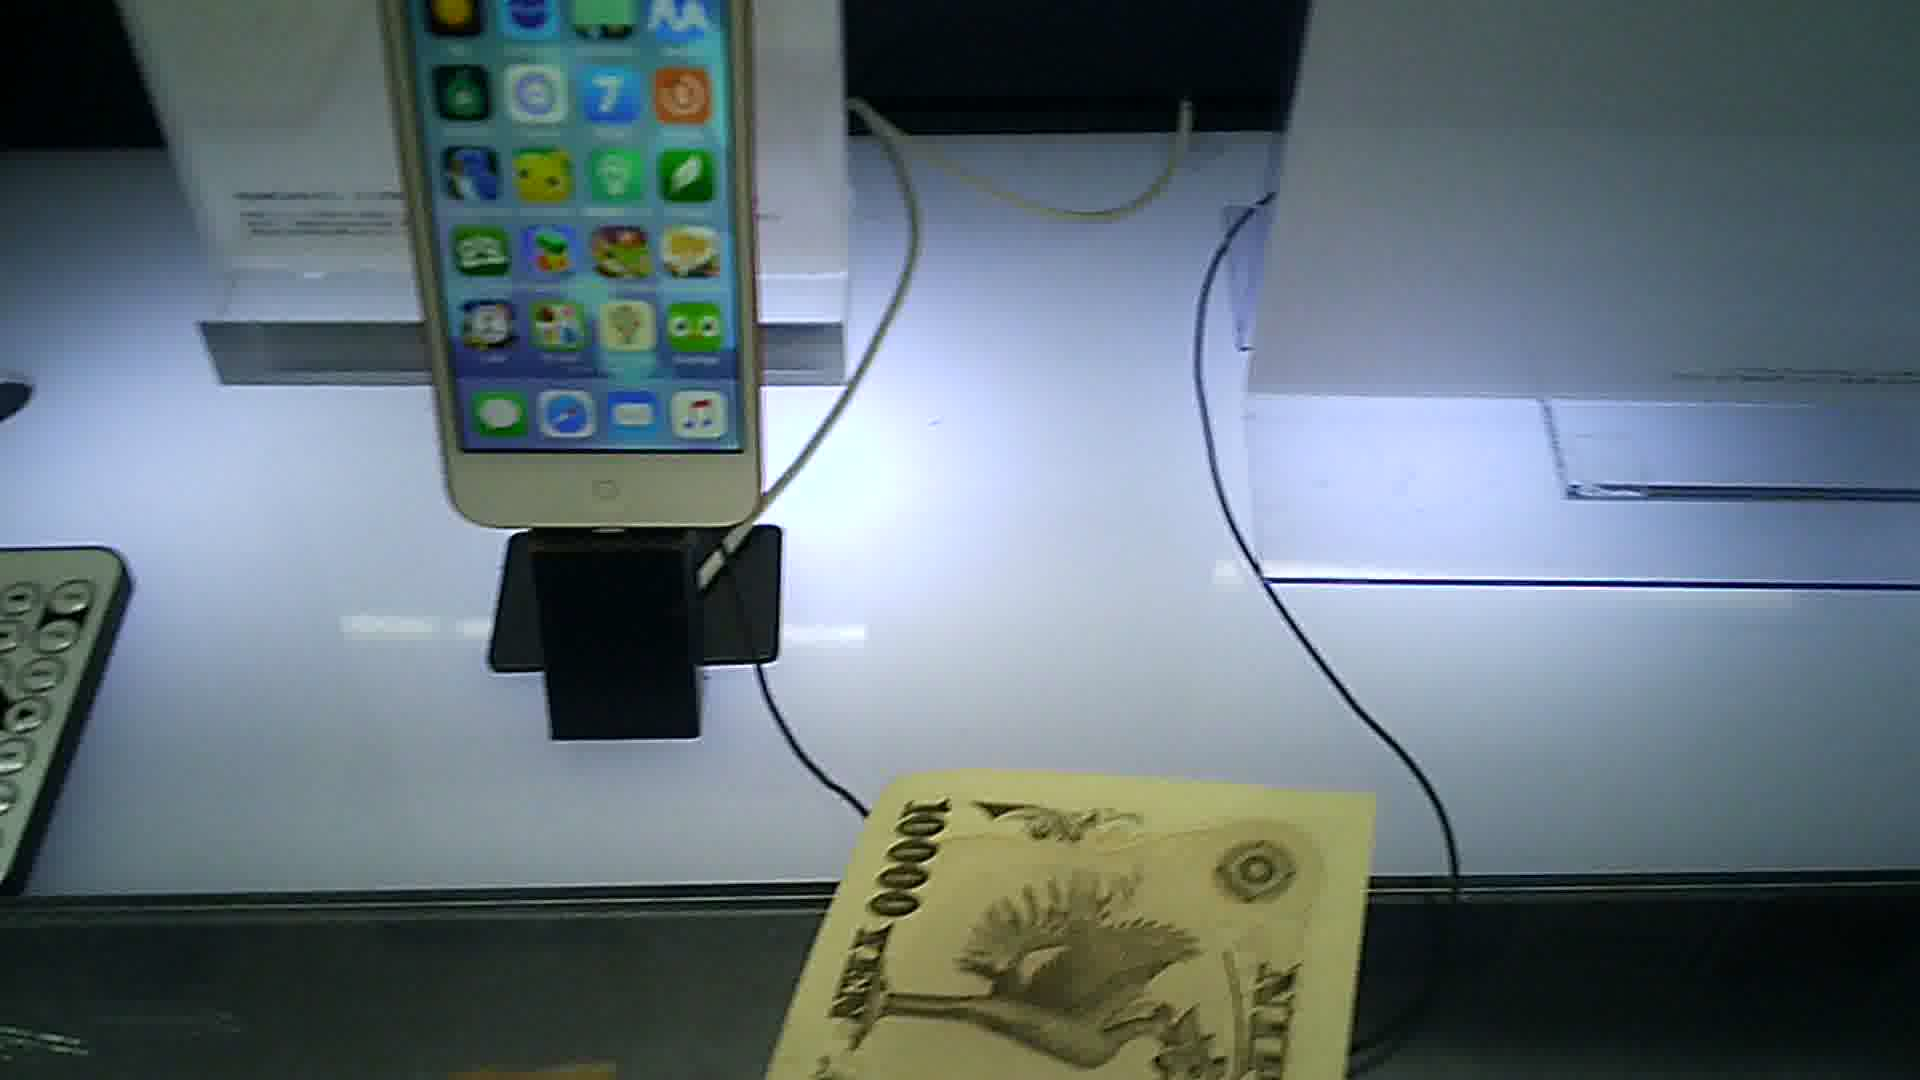10,000 Yen: (735, 742, 1377, 1079)
